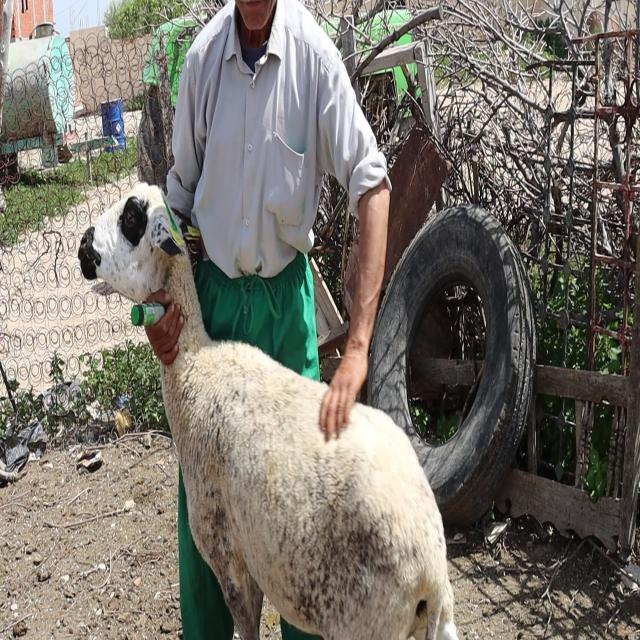Score_3: (78, 183, 457, 639)
